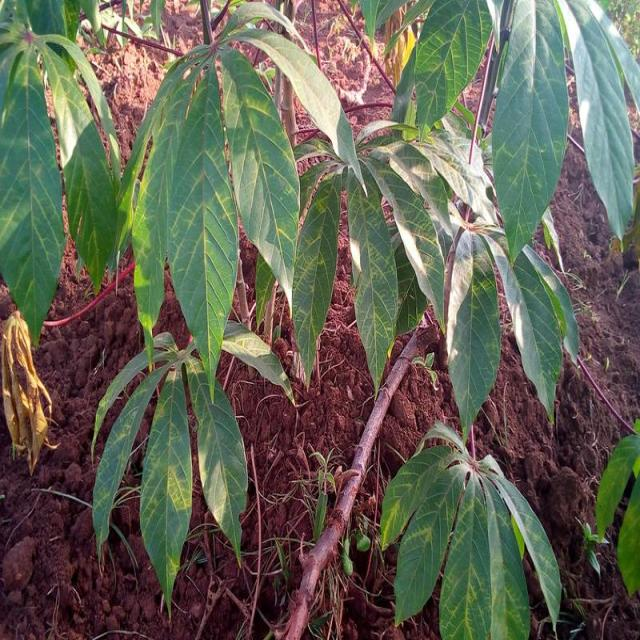cassava leaf: (379, 425, 562, 638), (216, 44, 301, 316), (490, 0, 569, 265), (0, 34, 66, 348)
